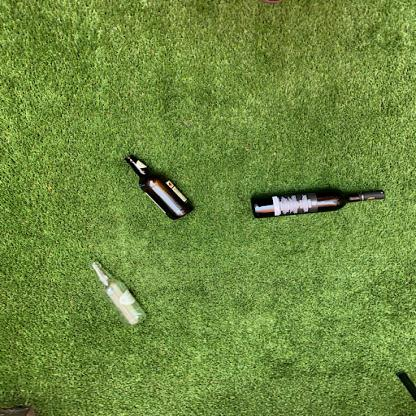trash: (120, 153, 195, 220), (251, 187, 384, 220), (90, 261, 150, 328)
